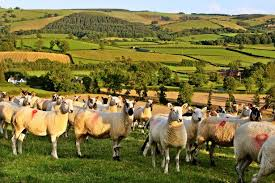sheep: (75, 95, 139, 161), (12, 94, 72, 162), (147, 101, 189, 172), (206, 102, 270, 143), (235, 119, 275, 164), (185, 101, 206, 163), (134, 96, 153, 124), (76, 96, 102, 113)
